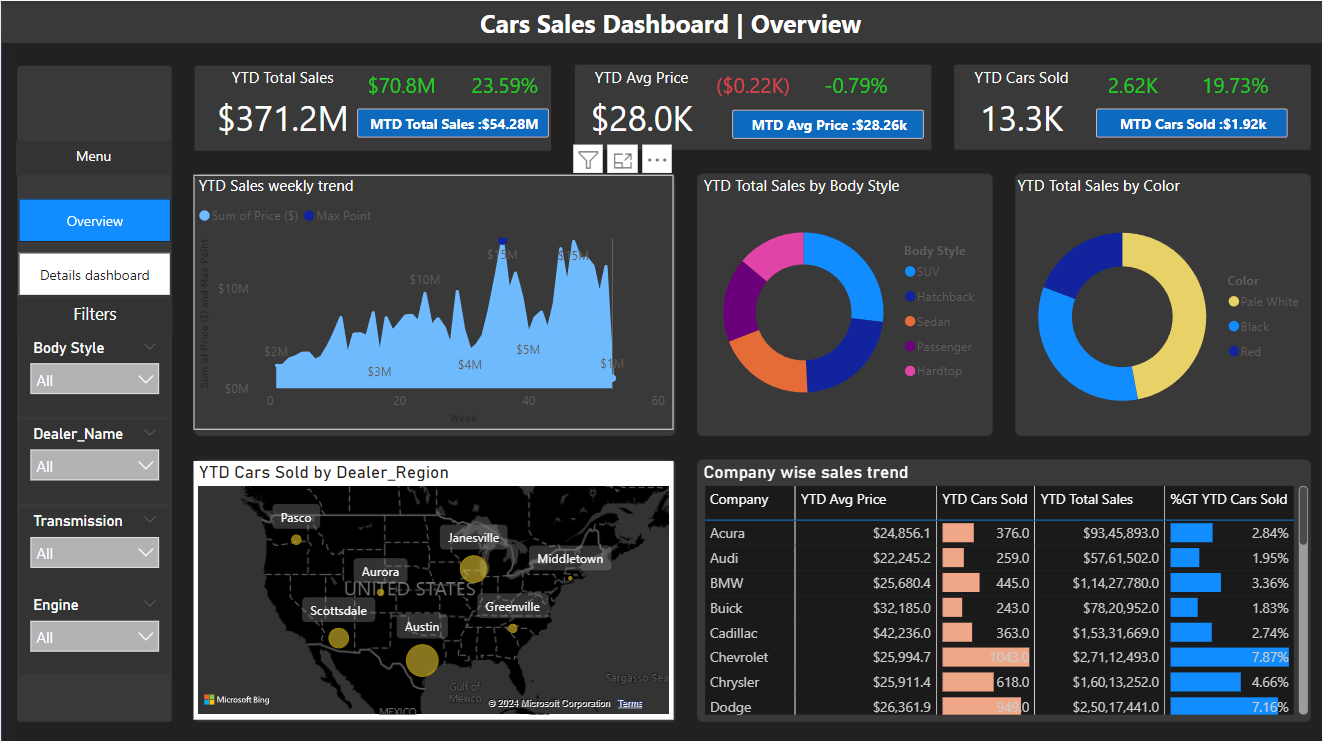

What the dashboard file says about the page in this screenshot:
{"tool":"powerbi","page":{"name":"Overview","canvas":[1280,720],"ordinal":0},"visuals":[{"type":"card","title":"YTD Total Sales","fields":{"Values":["car_data.YTD Total Sales"]},"box":[185.7,62.7,172.5,80.8],"z":0},{"type":"card","title":"Sales Difference","fields":{"Values":["car_data.Sales Difference"]},"box":[343.7,62.7,85.6,41],"z":1000},{"type":"card","title":"Sales Difference","fields":{"Values":["car_data.YoY Sales Growth"]},"box":[443.8,62.7,84.4,41],"z":2000},{"type":"card","fields":{"Values":["car_data.MTD KPI"]},"box":[343.7,103.7,184.5,27.7],"z":3000},{"type":"card","title":"YTD Avg Price","fields":{"Values":["car_data.YTD Avg Price"]},"box":[553.6,62.7,129,80.8],"z":4000},{"type":"card","title":"Sales Difference","fields":{"Values":["car_data.Avg Price Diff"]},"box":[682.6,62.7,85.6,41],"z":5000},{"type":"card","title":"Sales Difference","fields":{"Values":["car_data.YoY Avg Price Growth"]},"box":[786.3,62.7,77.2,41],"z":6000},{"type":"card","fields":{"Values":["car_data.MTD Avg Price KPI"]},"box":[705.5,104.9,184.5,27.7],"z":7000},{"type":"card","title":"YTD Cars Sold","fields":{"Values":["car_data.YTD Cars Sold"]},"box":[920.2,62.7,129,80.8],"z":8000},{"type":"card","title":"Sales Difference","fields":{"Values":["car_data.Cars Sold Diff"]},"box":[1049.2,62.7,85.6,41],"z":9000},{"type":"card","title":"Sales Difference","fields":{"Values":["car_data.YoY Car Sold Growth"]},"box":[1148.1,62.7,85.6,41],"z":10000},{"type":"card","fields":{"Values":["car_data.MTD Cars Sold KPI"]},"box":[1056.5,103.7,184.5,27.7],"z":11000},{"type":"areaChart","title":"YTD Sales weekly trend","fields":{"Category":["Calendar Table.Week"],"Y":["Sum(car_data.Price ($))","car_data.Max Point"]},"box":[185.7,167.6,463.1,246],"z":12000},{"type":"donutChart","fields":{"Category":["car_data.Body Style"],"Y":["car_data.YTD Total Sales"]},"box":[673,167.6,281,246],"z":13000},{"type":"donutChart","fields":{"Y":["car_data.YTD Total Sales"],"Category":["car_data.Color"]},"box":[975.7,167.6,290.7,254.5],"z":14000},{"type":"map","fields":{"Category":["car_data.Dealer_Region"],"Size":["car_data.YTD Cars Sold"]},"box":[185.7,443.8,463.1,249.6],"z":15000},{"type":"tableEx","title":"Company wise sales trend","fields":{"Values":["car_data.Company","car_data.YTD Avg Price","car_data.YTD Cars Sold1","car_data.YTD Total Sales","car_data.YTD Cars Sold"]},"box":[673,443.8,593.4,249.6],"z":16000},{"type":"textbox","box":[457.1,0,635.6,43.4],"z":17000},{"type":"slicer","fields":{"Values":["car_data.Body Style"]},"box":[18.1,320.8,144.7,80.8],"z":18000},{"type":"slicer","fields":{"Values":["car_data.Dealer_Name"]},"box":[18.1,404,144.7,80.8],"z":19000},{"type":"slicer","fields":{"Values":["car_data.Transmission"]},"box":[18.1,488.4,144.7,80.8],"z":20000},{"type":"slicer","fields":{"Values":["car_data.Engine"]},"box":[18.1,569.2,144.7,80.8],"z":21000},{"type":"textbox","box":[15.7,285.8,149.5,35],"z":22000},{"type":"pageNavigator","box":[16.9,190.6,147.1,95.3],"z":23000},{"type":"textbox","box":[14.5,135.1,149.5,32.6],"z":24000}]}

Visuals, with their boxes in screenshot pixels (x1, y1, x2, y2), scaled from the page's 1280x720 canvas onto the 1322x741 screenshot:
"YTD Total Sales" card: Rect(192, 65, 370, 148)
"Sales Difference" card: Rect(355, 65, 443, 107)
"Sales Difference" card: Rect(458, 65, 546, 107)
card - car_data.MTD KPI: Rect(355, 107, 546, 135)
"YTD Avg Price" card: Rect(572, 65, 705, 148)
"Sales Difference" card: Rect(705, 65, 793, 107)
"Sales Difference" card: Rect(812, 65, 892, 107)
card - car_data.MTD Avg Price KPI: Rect(729, 108, 919, 136)
"YTD Cars Sold" card: Rect(950, 65, 1084, 148)
"Sales Difference" card: Rect(1084, 65, 1172, 107)
"Sales Difference" card: Rect(1186, 65, 1274, 107)
card - car_data.MTD Cars Sold KPI: Rect(1091, 107, 1282, 135)
"YTD Sales weekly trend" areaChart: Rect(192, 172, 670, 426)
donutChart - car_data.Body Style x car_data.YTD Total Sales: Rect(695, 172, 985, 426)
donutChart - car_data.YTD Total Sales x car_data.Color: Rect(1008, 172, 1308, 434)
map - car_data.Dealer_Region x car_data.YTD Cars Sold: Rect(192, 457, 670, 714)
"Company wise sales trend" tableEx: Rect(695, 457, 1308, 714)
textbox: Rect(472, 0, 1129, 45)
slicer - car_data.Body Style: Rect(19, 330, 168, 413)
slicer - car_data.Dealer_Name: Rect(19, 416, 168, 499)
slicer - car_data.Transmission: Rect(19, 503, 168, 586)
slicer - car_data.Engine: Rect(19, 586, 168, 669)
textbox: Rect(16, 294, 171, 330)
pageNavigator: Rect(17, 196, 169, 294)
textbox: Rect(15, 139, 169, 173)
